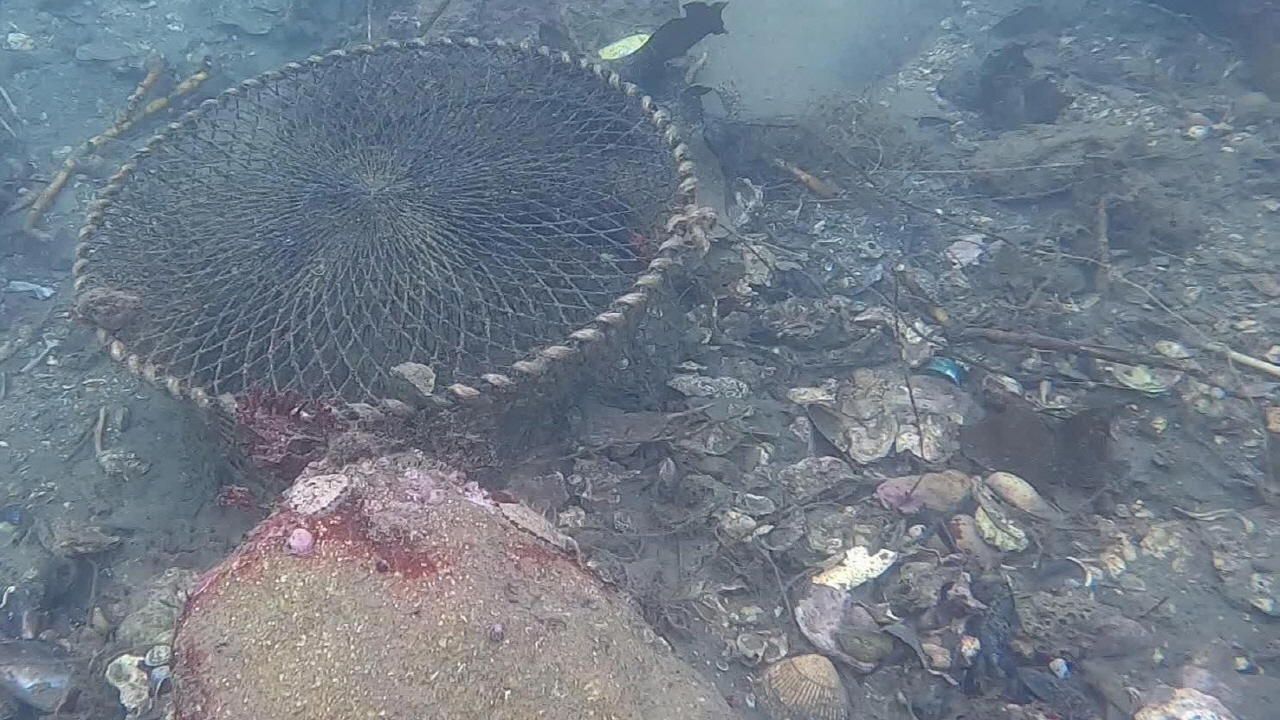circular fish trap: (70, 32, 699, 467)
